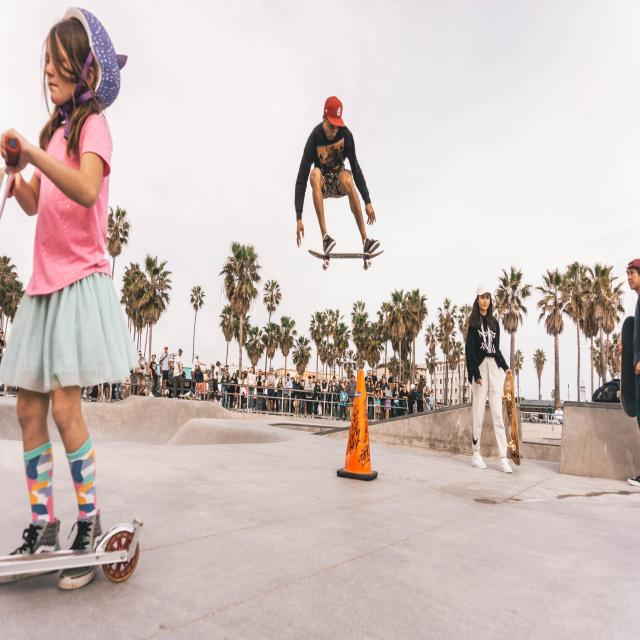skirt: (0, 274, 149, 406)
